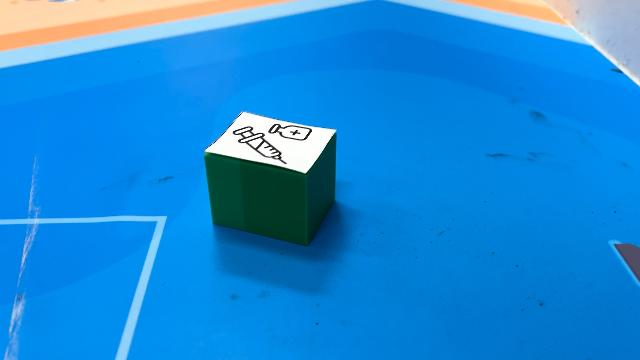syringe: (203, 110, 337, 246)
